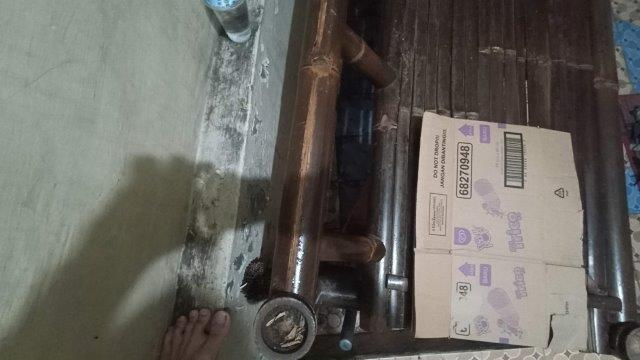kardus: (417, 112, 586, 345)
